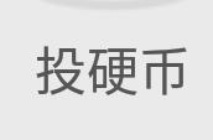TextView: (1, 1, 212, 139)
